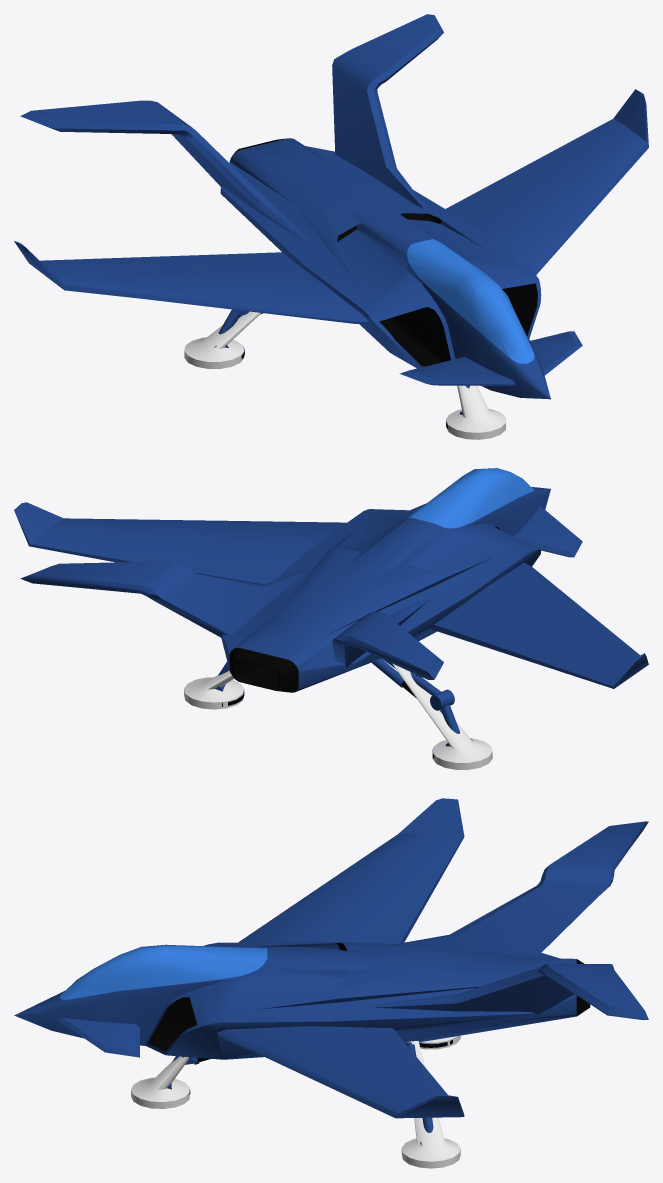
The model's file is Jet.fbx.
The picture shows the model from 3 angles, top to bottom: view 1: azimuth 30°, elevation 25°; view 2: azimuth 150°, elevation 25°; view 3: azimuth 270°, elevation 25°; orthographic projection.
Parts seen in each view (by area): view 1: Body, Landing Gear Simple; view 2: Body, Landing Gear Simple, Landing Gear; view 3: Body, Landing Gear Simple, Landing Gear.
Part boxes in pixels (left/top/right/bottom): Body: left=14, top=14, right=648, bottom=399; Landing Gear Simple: left=184, top=311, right=505, bottom=439; Body: left=14, top=468, right=648, bottom=692; Landing Gear Simple: left=184, top=663, right=492, bottom=769; Landing Gear: left=215, top=658, right=472, bottom=758; Body: left=14, top=798, right=648, bottom=1118; Landing Gear Simple: left=131, top=1035, right=460, bottom=1168; Landing Gear: left=167, top=1040, right=452, bottom=1145.
Size of what is drawn, in the model's own units: 94.99 by 26.85 by 85.63.
